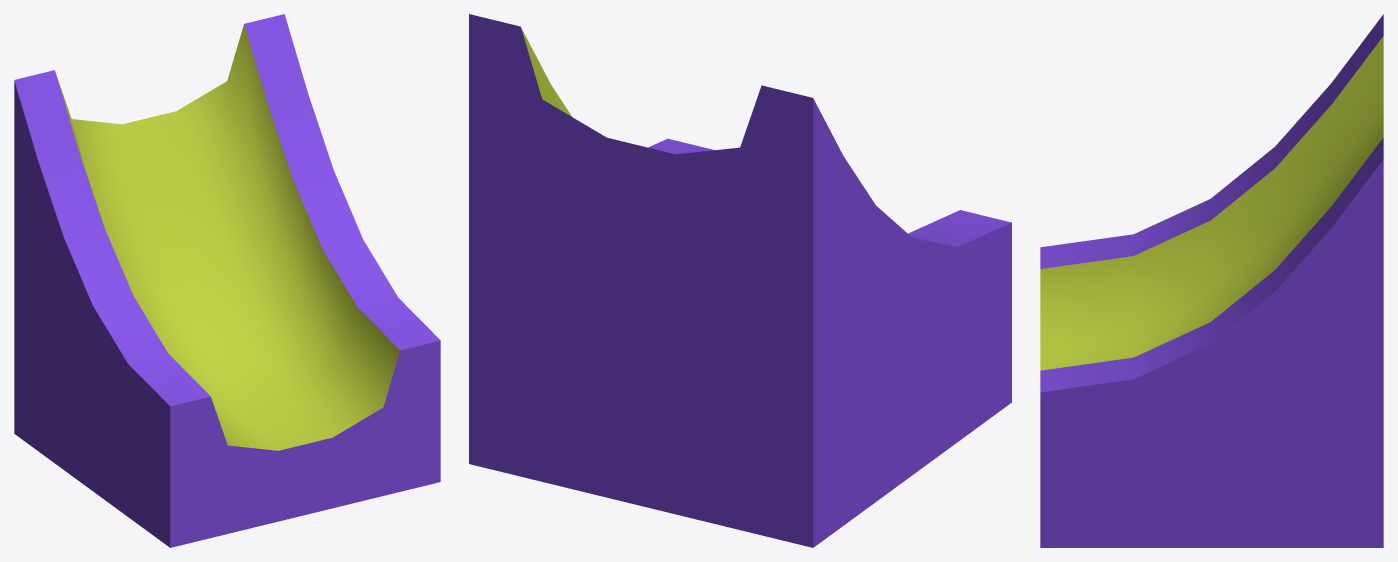
The model's file is rampStart_solid_D-col.dae.
3 renders of one model, left to right at view 1: azimuth 30°, elevation 25°; view 2: azimuth 150°, elevation 25°; view 3: azimuth 270°, elevation 25°, orthographic. The views are drawn at different scales.
Parts seen in each view (by area): view 1: rampStart_solid_D-col; view 2: rampStart_solid_D-col; view 3: rampStart_solid_D-col.
Part boxes in pixels (x1=…): rampStart_solid_D-col: x1=14, y1=14, x2=440, y2=547; rampStart_solid_D-col: x1=469, y1=14, x2=1011, y2=547; rampStart_solid_D-col: x1=1040, y1=14, x2=1383, y2=547.
Size of the model in its own units: 1 by 1 by 1.25.
